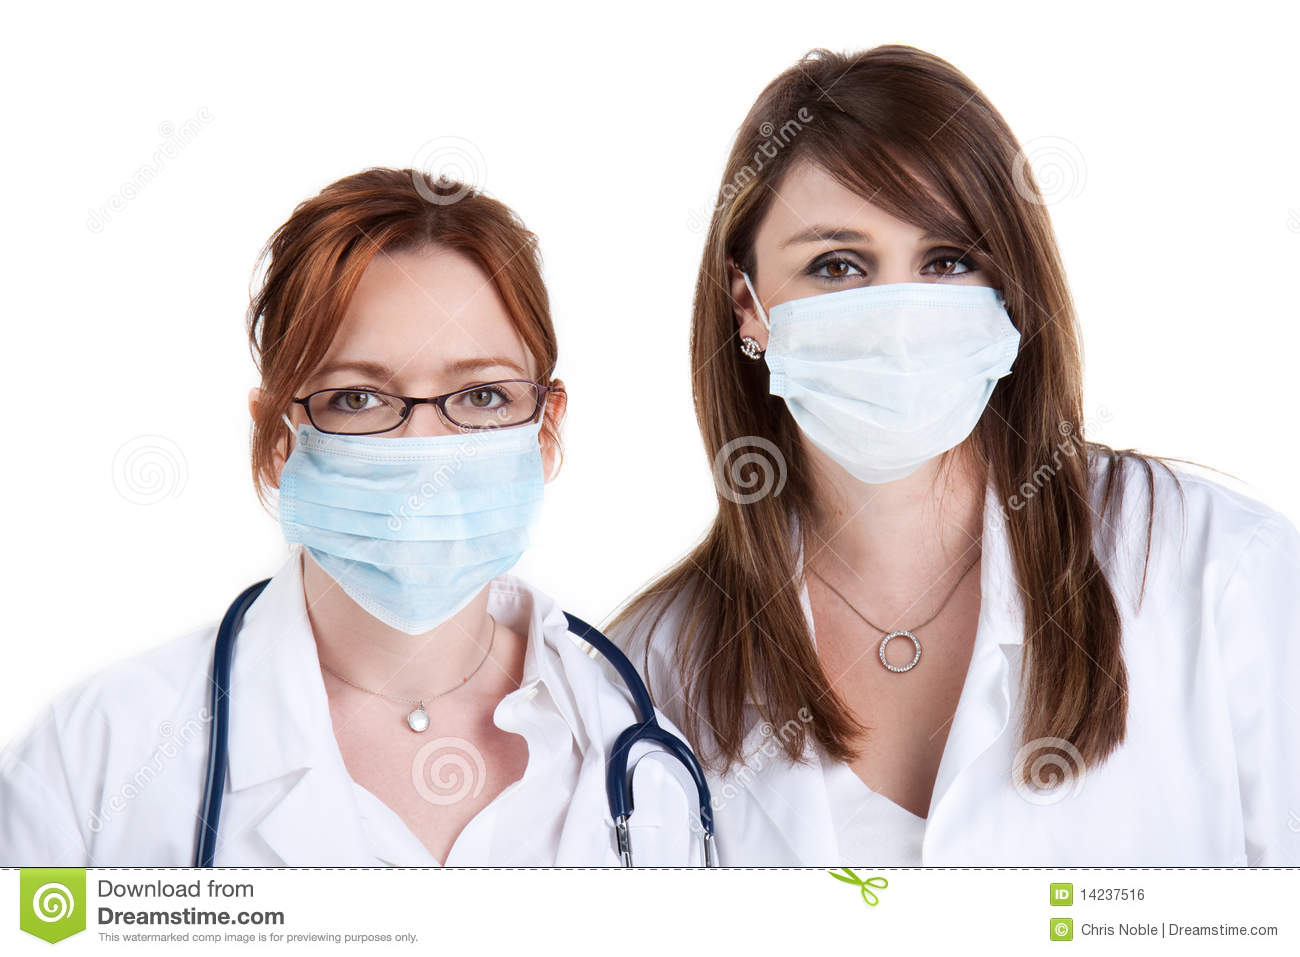mask: (273, 435, 560, 624), (766, 282, 1017, 463)
